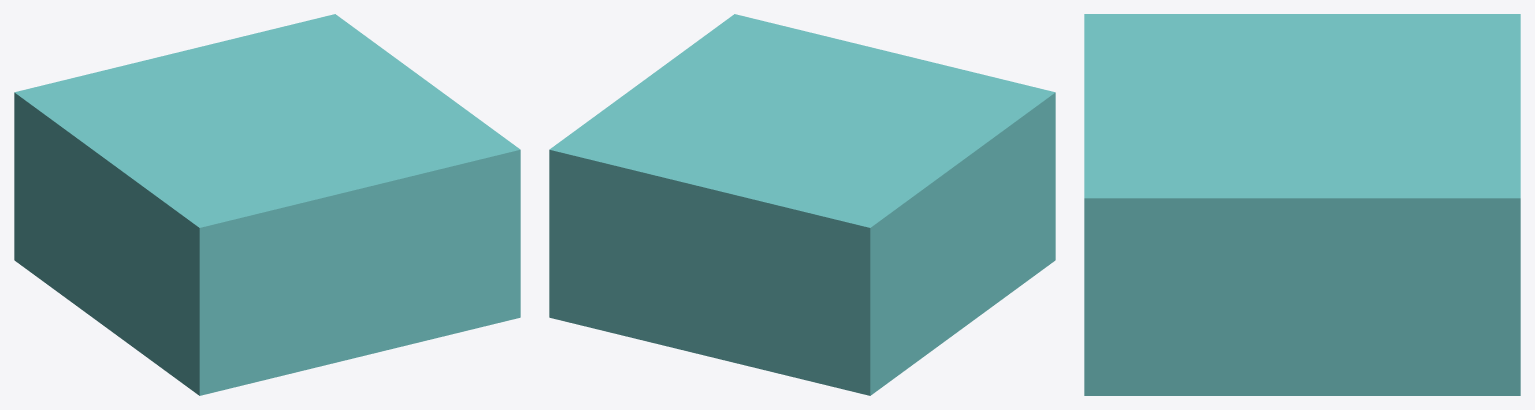
Rendered from OneWay_TopHalf.glb.
3 views of the same model, side by side, from view 1: azimuth 30°, elevation 25°; view 2: azimuth 150°, elevation 25°; view 3: azimuth 270°, elevation 25° (orthographic). The views are drawn at different scales.
Parts seen in each view (by area): view 1: OneWay_TopHalf_body; view 2: OneWay_TopHalf_body; view 3: OneWay_TopHalf_body.
Boxes of the visible parts, x1,y1,x2,y2 form: OneWay_TopHalf_body: (14, 14, 520, 395); OneWay_TopHalf_body: (549, 14, 1055, 395); OneWay_TopHalf_body: (1084, 14, 1520, 395).
Size of the model in its own units: 1 by 0.5 by 1.
